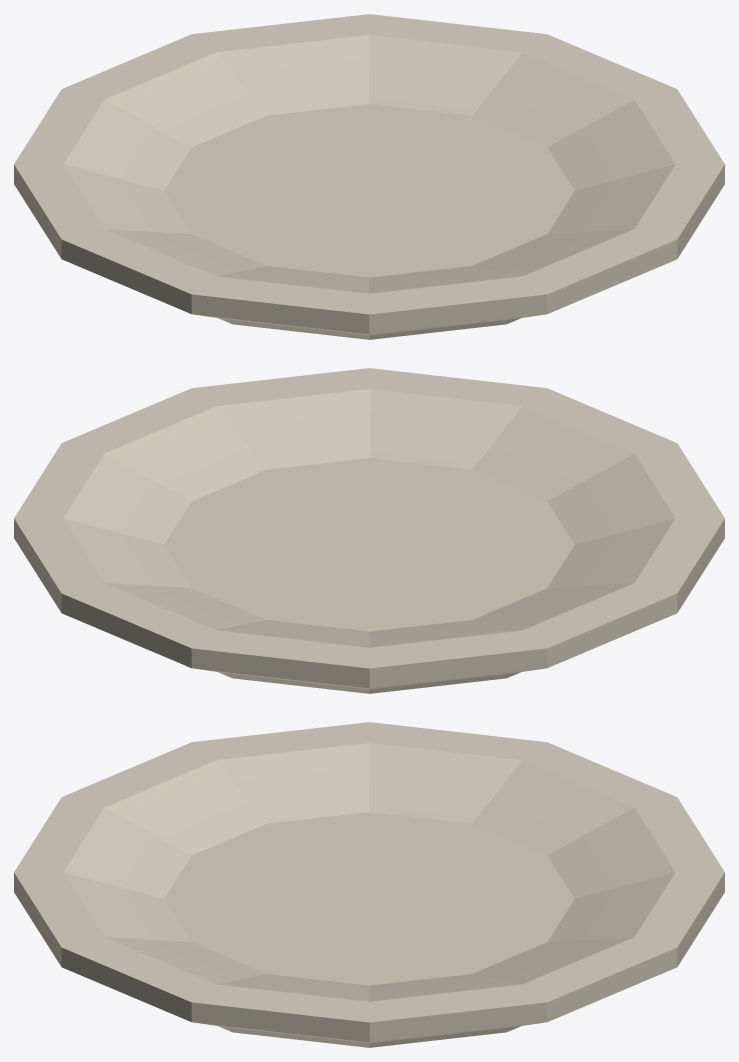
File: plate.glb
3 renders of one model, top to bottom at view 1: azimuth 30°, elevation 25°; view 2: azimuth 150°, elevation 25°; view 3: azimuth 270°, elevation 25°, orthographic.
Parts seen in each view (by area): view 1: plate; view 2: plate; view 3: plate.
Boxes of the visible parts, <box> form: plate: <box>14,14,724,339</box>; plate: <box>14,368,724,693</box>; plate: <box>14,722,724,1047</box>.
Size of the model in its own units: 0.27 by 0.025 by 0.27.
